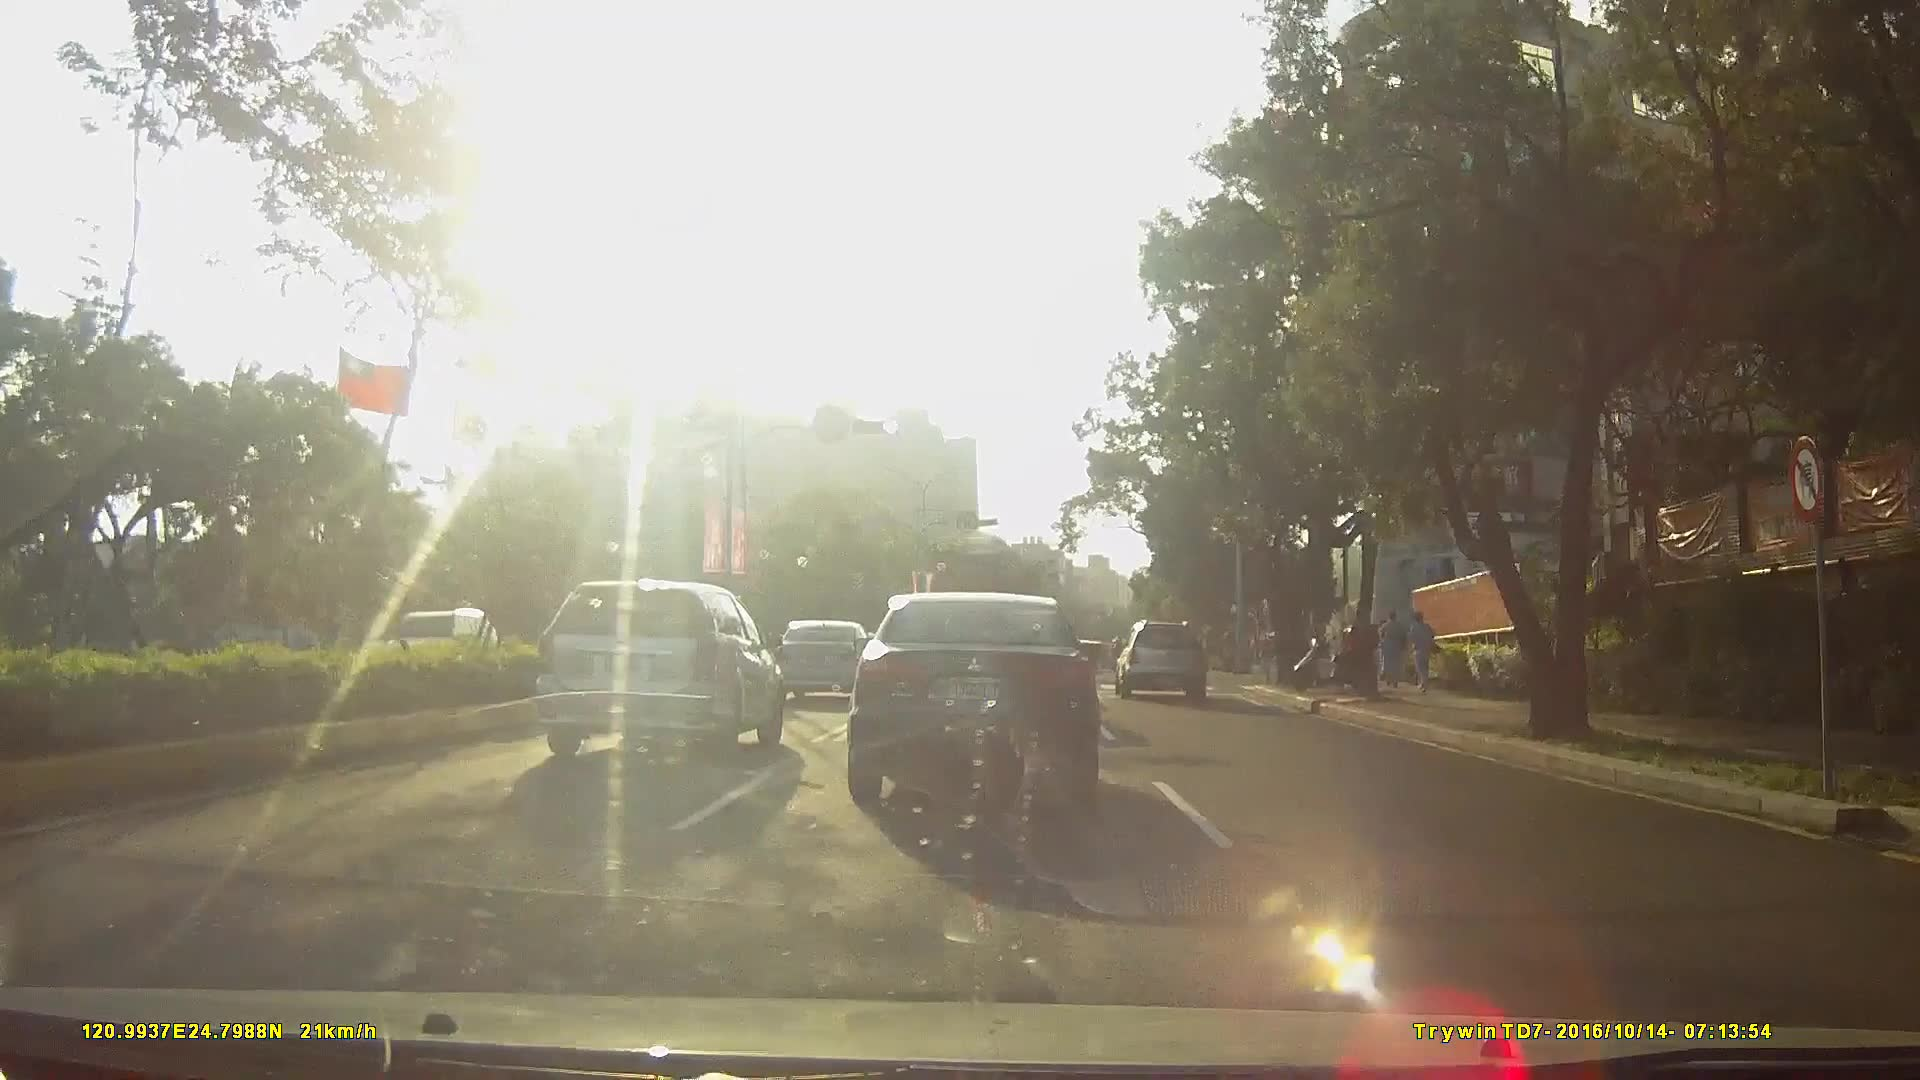pedestrian: (1407, 616, 1441, 703), (1379, 611, 1410, 696)
vehicle: (842, 593, 1100, 817), (528, 579, 785, 763), (774, 622, 877, 713), (1111, 623, 1216, 707)
